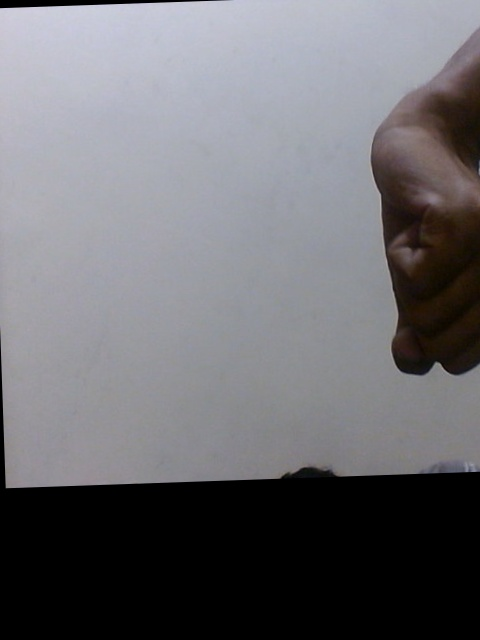hand: (369, 117, 480, 381)
